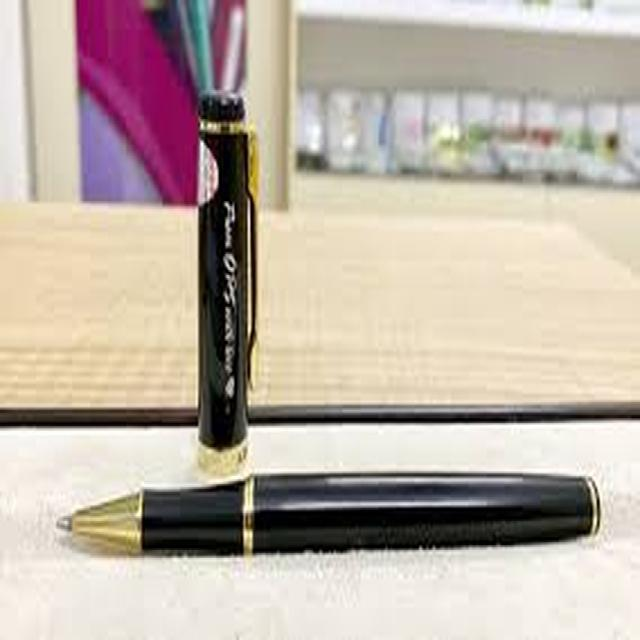pen: (45, 472, 602, 589)
